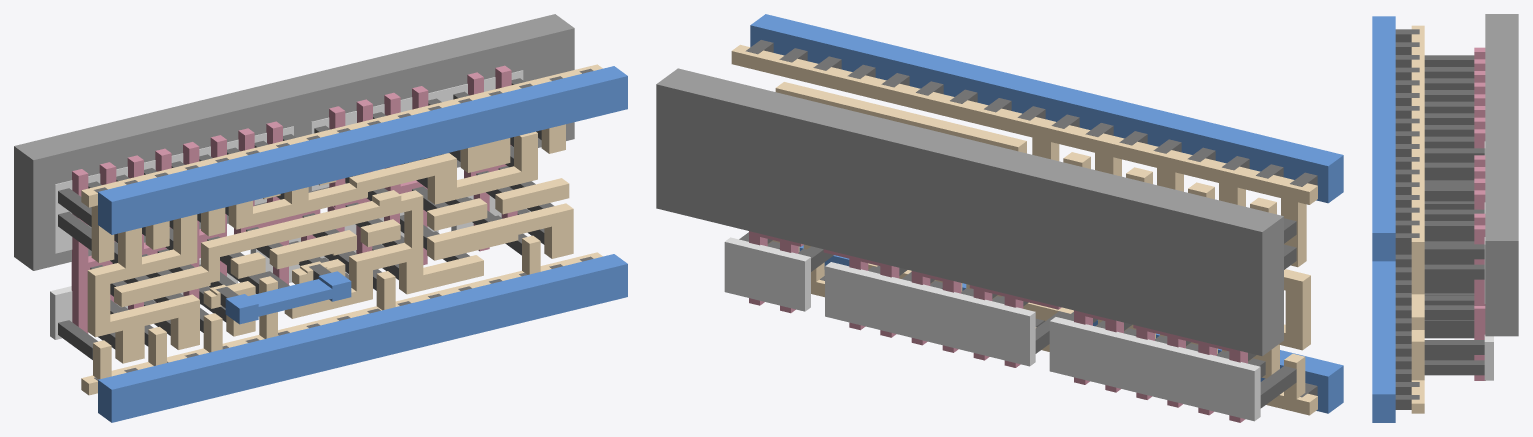
File: sky130_fd_sc_hd__a221o_4.gds.gltf
3 renders of one model, left to right at view 1: azimuth 30°, elevation 25°; view 2: azimuth 150°, elevation 25°; view 3: azimuth 270°, elevation 25°, orthographic. The views are drawn at different scales.
Visible parts, largest first — view 1: sky130_fd_sc_hd__a221o_4_li1, sky130_fd_sc_hd__a221o_4_met1, sky130_fd_sc_hd__a221o_4_nwell, sky130_fd_sc_hd__a221o_4_licon, sky130_fd_sc_hd__a221o_4_poly, sky130_fd_sc_hd__a221o_4_diff, sky130_fd_sc_hd__a221o_4_mcon; view 2: sky130_fd_sc_hd__a221o_4_nwell, sky130_fd_sc_hd__a221o_4_diff, sky130_fd_sc_hd__a221o_4_li1, sky130_fd_sc_hd__a221o_4_met1, sky130_fd_sc_hd__a221o_4_poly, sky130_fd_sc_hd__a221o_4_mcon, sky130_fd_sc_hd__a221o_4_licon; view 3: sky130_fd_sc_hd__a221o_4_licon, sky130_fd_sc_hd__a221o_4_nwell, sky130_fd_sc_hd__a221o_4_met1, sky130_fd_sc_hd__a221o_4_mcon, sky130_fd_sc_hd__a221o_4_li1, sky130_fd_sc_hd__a221o_4_poly, sky130_fd_sc_hd__a221o_4_diff.
Boxes of the visible parts, left/top/right/bottom form: sky130_fd_sc_hd__a221o_4_li1: left=81, top=64, right=602, bottom=395; sky130_fd_sc_hd__a221o_4_met1: left=98, top=66, right=627, bottom=422; sky130_fd_sc_hd__a221o_4_nwell: left=14, top=14, right=574, bottom=270; sky130_fd_sc_hd__a221o_4_licon: left=58, top=78, right=553, bottom=359; sky130_fd_sc_hd__a221o_4_poly: left=71, top=65, right=517, bottom=333; sky130_fd_sc_hd__a221o_4_diff: left=50, top=70, right=528, bottom=339; sky130_fd_sc_hd__a221o_4_mcon: left=94, top=68, right=593, bottom=380; sky130_fd_sc_hd__a221o_4_nwell: left=656, top=68, right=1283, bottom=356; sky130_fd_sc_hd__a221o_4_diff: left=724, top=237, right=1260, bottom=421; sky130_fd_sc_hd__a221o_4_li1: left=731, top=44, right=1317, bottom=415; sky130_fd_sc_hd__a221o_4_met1: left=750, top=14, right=1343, bottom=413; sky130_fd_sc_hd__a221o_4_poly: left=749, top=231, right=1247, bottom=422; sky130_fd_sc_hd__a221o_4_mcon: left=745, top=40, right=1317, bottom=397; sky130_fd_sc_hd__a221o_4_licon: left=739, top=218, right=1296, bottom=408; sky130_fd_sc_hd__a221o_4_licon: left=1424, top=55, right=1484, bottom=375; sky130_fd_sc_hd__a221o_4_nwell: left=1485, top=14, right=1518, bottom=336; sky130_fd_sc_hd__a221o_4_met1: left=1372, top=16, right=1395, bottom=422; sky130_fd_sc_hd__a221o_4_mcon: left=1395, top=29, right=1419, bottom=409; sky130_fd_sc_hd__a221o_4_li1: left=1411, top=25, right=1424, bottom=413; sky130_fd_sc_hd__a221o_4_poly: left=1474, top=47, right=1485, bottom=380; sky130_fd_sc_hd__a221o_4_diff: left=1484, top=141, right=1493, bottom=380.
Size of the model in its own units: 8.2 by 3.2 by 2.24.
